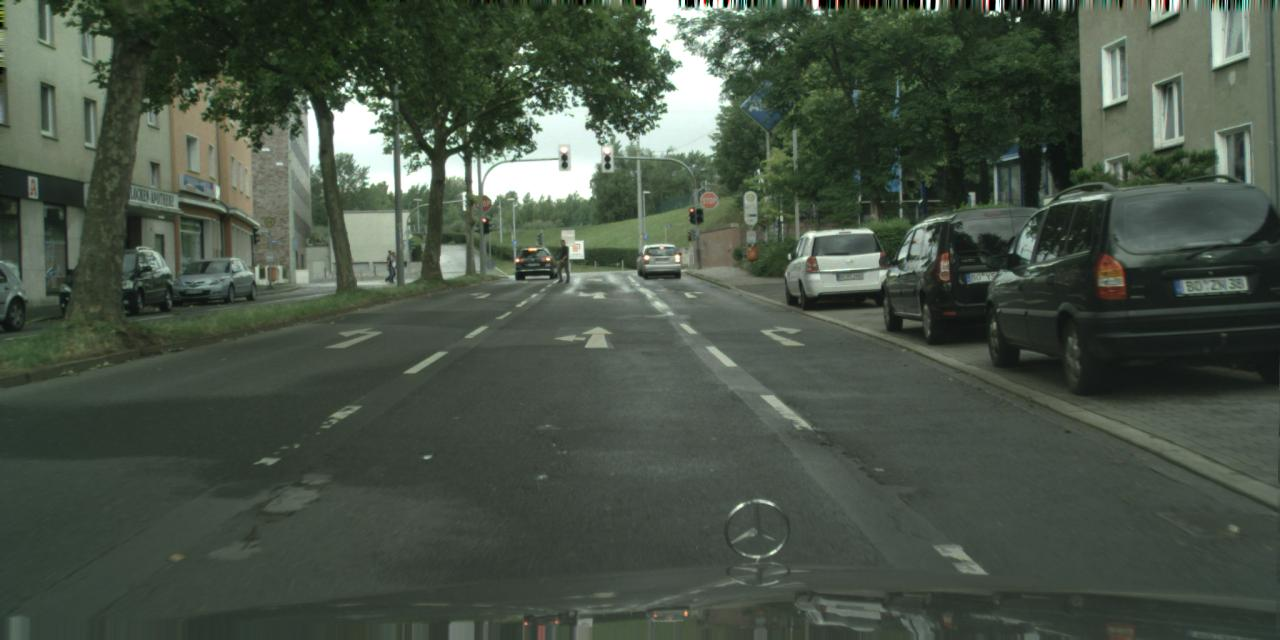ped: (553, 238, 572, 284), (384, 250, 400, 283)
